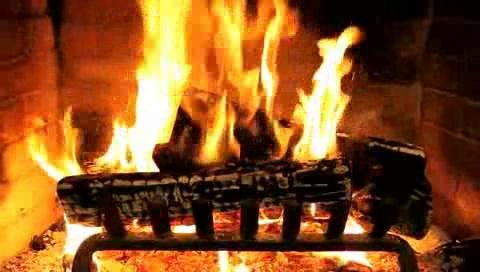fire: (15, 0, 480, 192)
